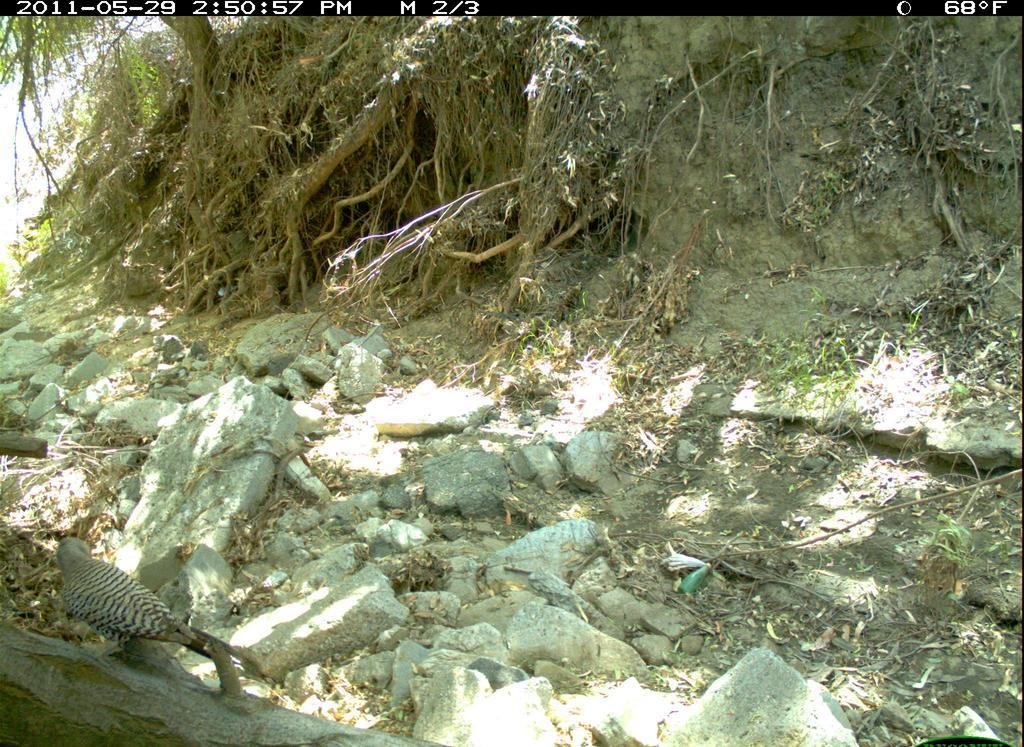bird: (39, 521, 233, 681)
